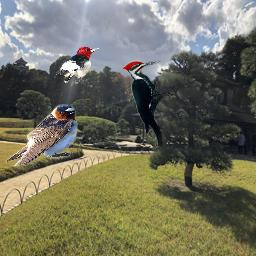Swallow: (5, 104, 78, 169)
Woodpecker: (123, 59, 174, 146), (56, 46, 101, 83)
